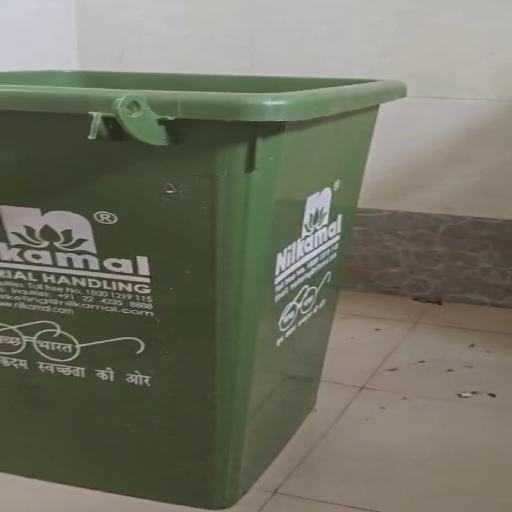Nilkamal-dustbin-detection: (0, 72, 404, 508)
